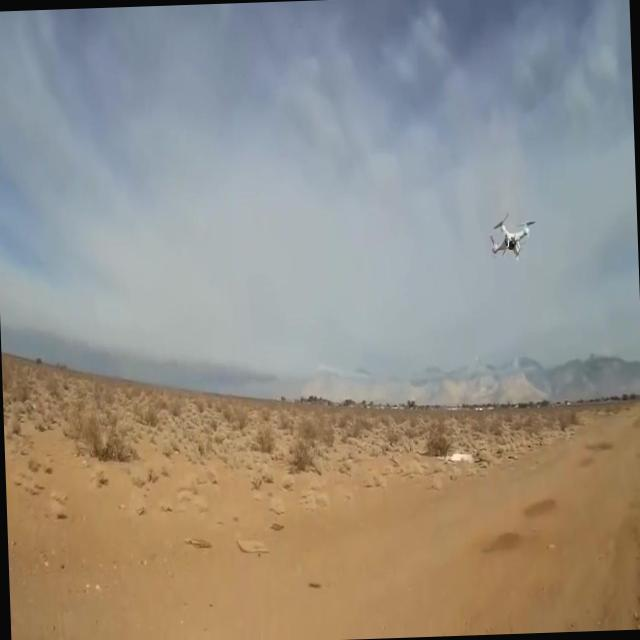drone: (487, 211, 536, 263)
